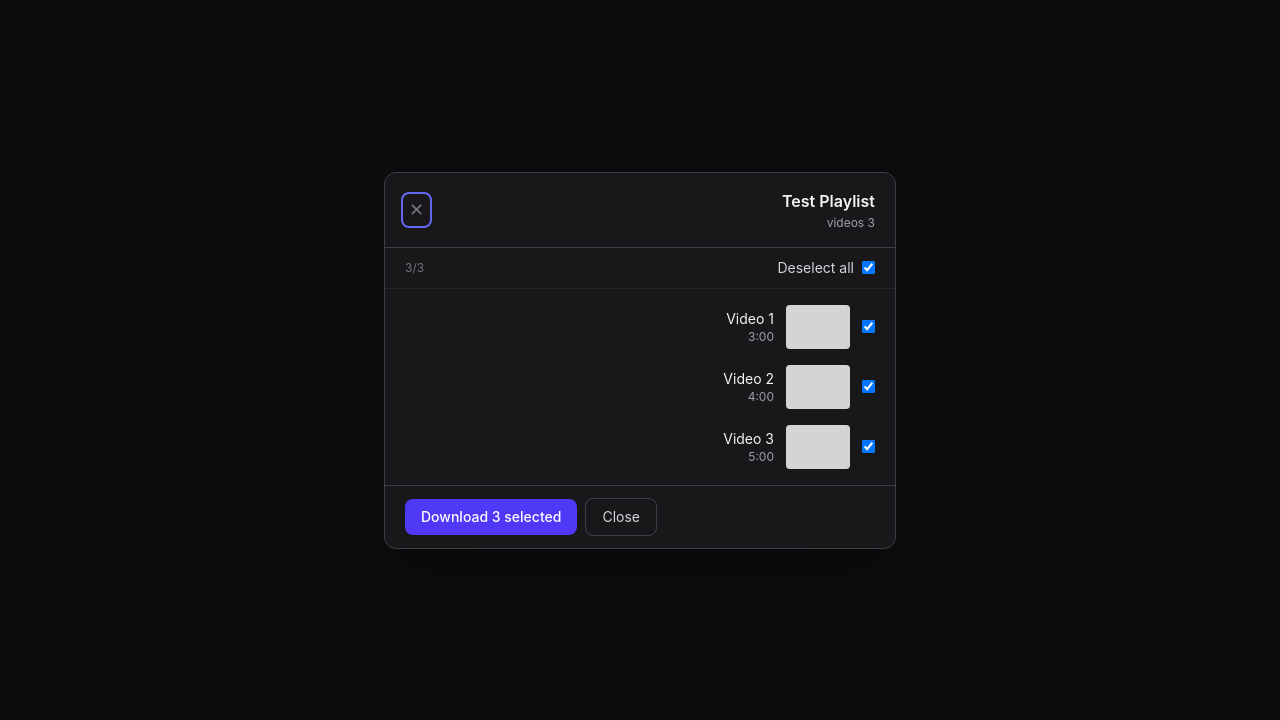
Test: PlaylistModal › clicking select-all deselects all entries
Click the checkbox labelled "Deselect all".
click(868, 268)  # box [862,261,875,274]
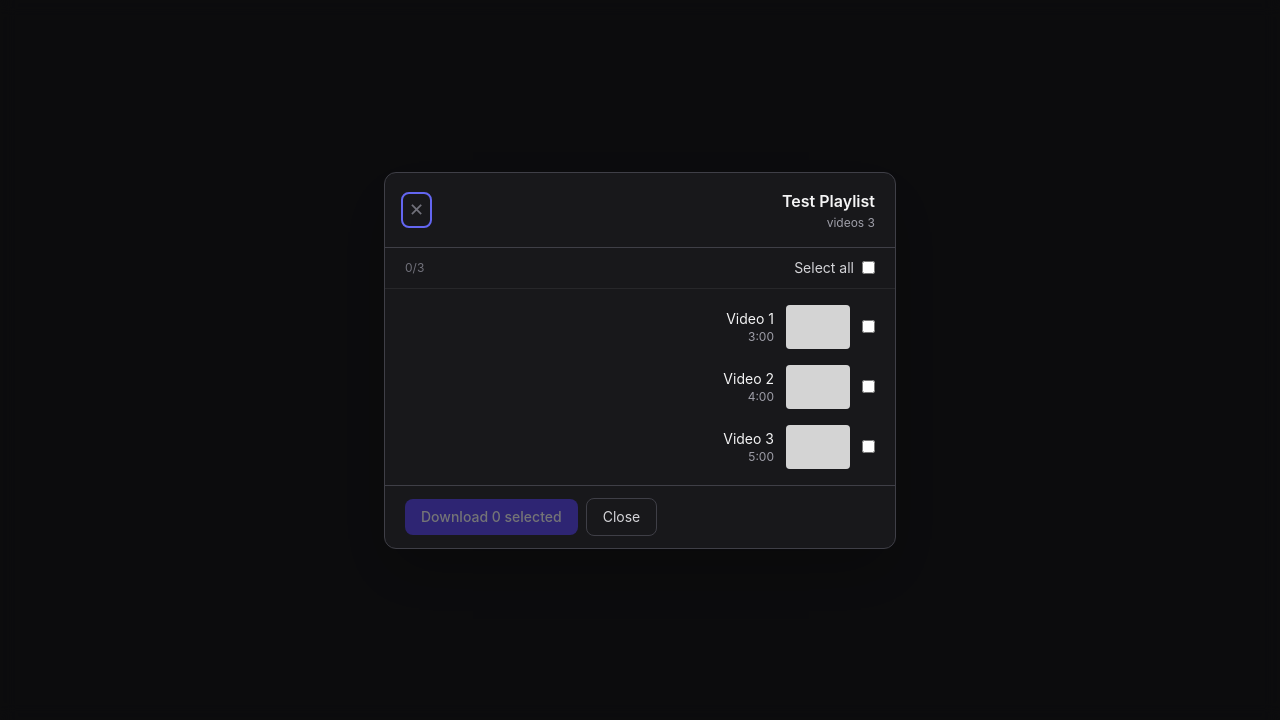
Now the checkbox labelled "Video 1 3:00" is not checked, box [862,320,875,333]
Now the checkbox labelled "Video 2 4:00" is not checked, box [862,380,875,393]
Now the checkbox labelled "Video 3 5:00" is not checked, box [862,440,875,453]
